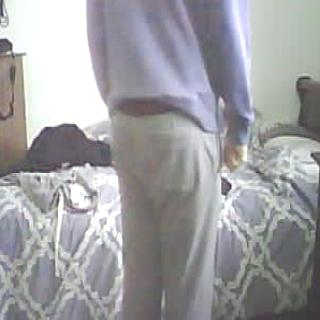Blue Hoodie: (84, 0, 251, 108)
Gray Sweatpants: (108, 106, 225, 320)
